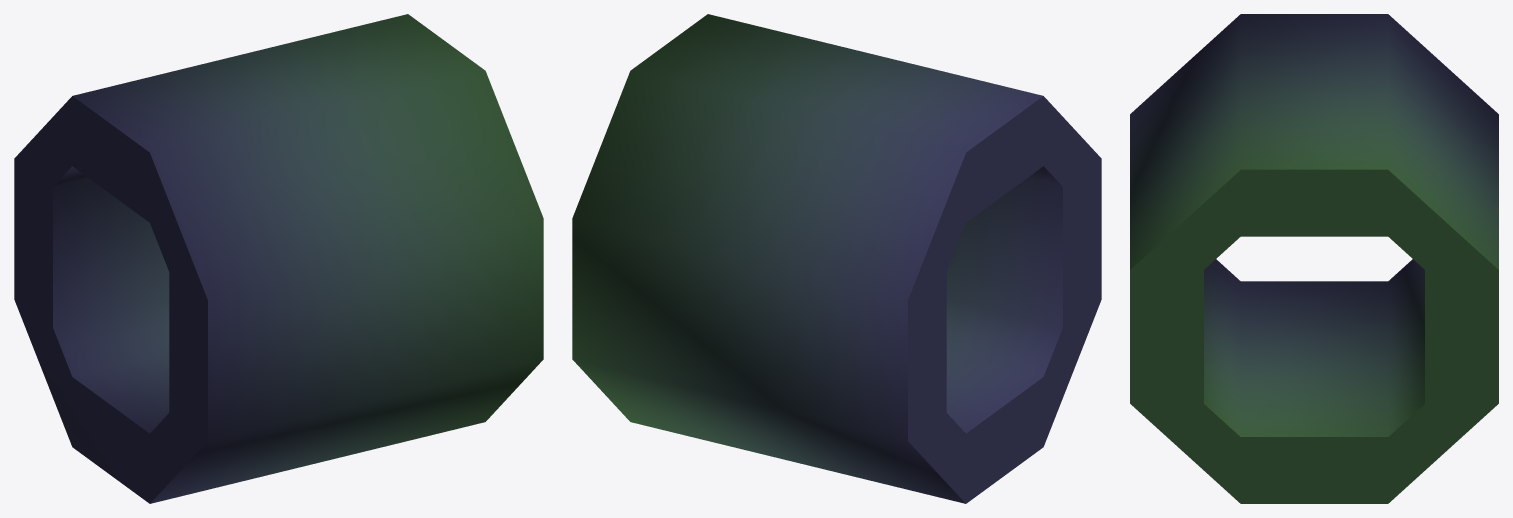
The model's file is conveyor.glb.
The picture shows the model from 3 angles, left to right: view 1: azimuth 30°, elevation 25°; view 2: azimuth 150°, elevation 25°; view 3: azimuth 270°, elevation 25°; orthographic projection. The views are drawn at different scales.
Visible parts, largest first — view 1: conveyor; view 2: conveyor; view 3: conveyor.
Boxes of the visible parts, bbox=[...] form: conveyor: bbox=[14, 14, 543, 503]; conveyor: bbox=[572, 14, 1101, 503]; conveyor: bbox=[1130, 14, 1498, 503].
Size of the model in its own units: 1 by 1 by 1.
